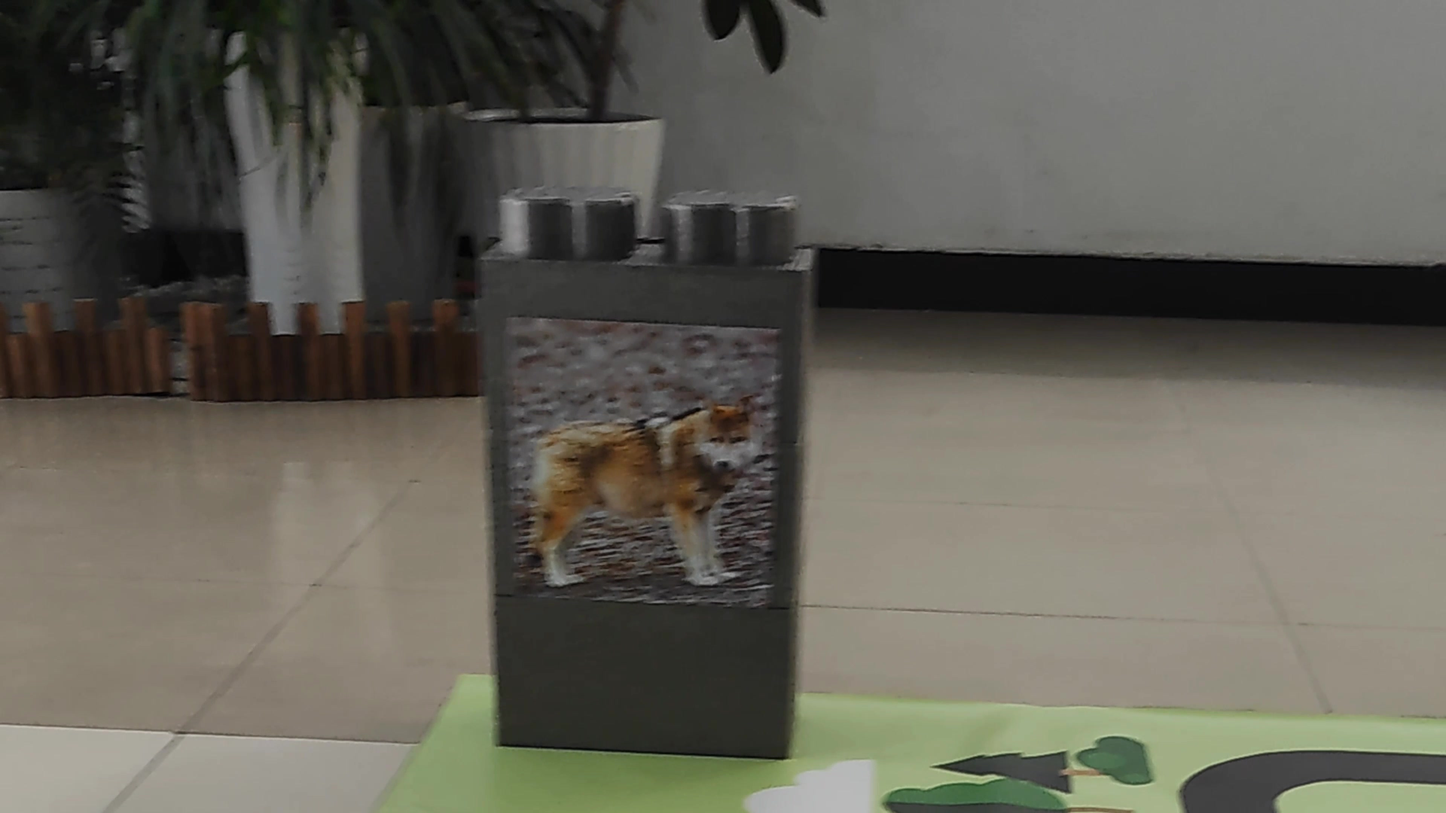wolf: (503, 379, 780, 599)
